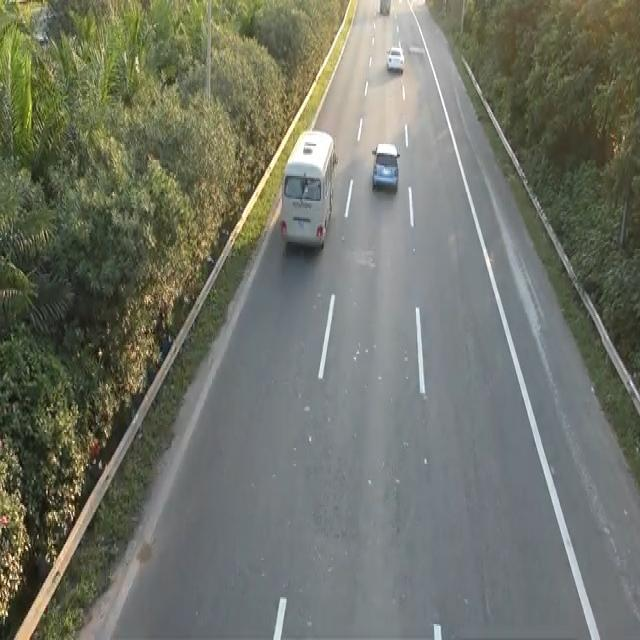bus: (370, 140, 400, 192)
jeep: (278, 126, 338, 254)
